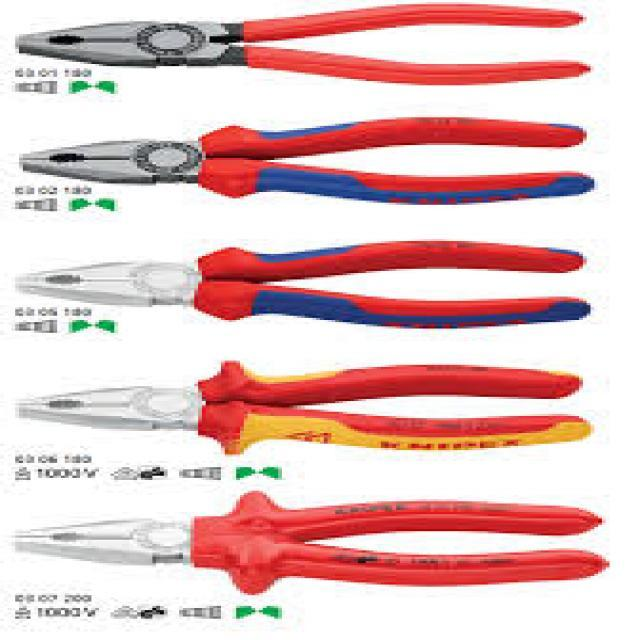pliers: (12, 486, 612, 594), (14, 352, 590, 456), (10, 109, 600, 208), (4, 236, 594, 332), (11, 0, 609, 88)
